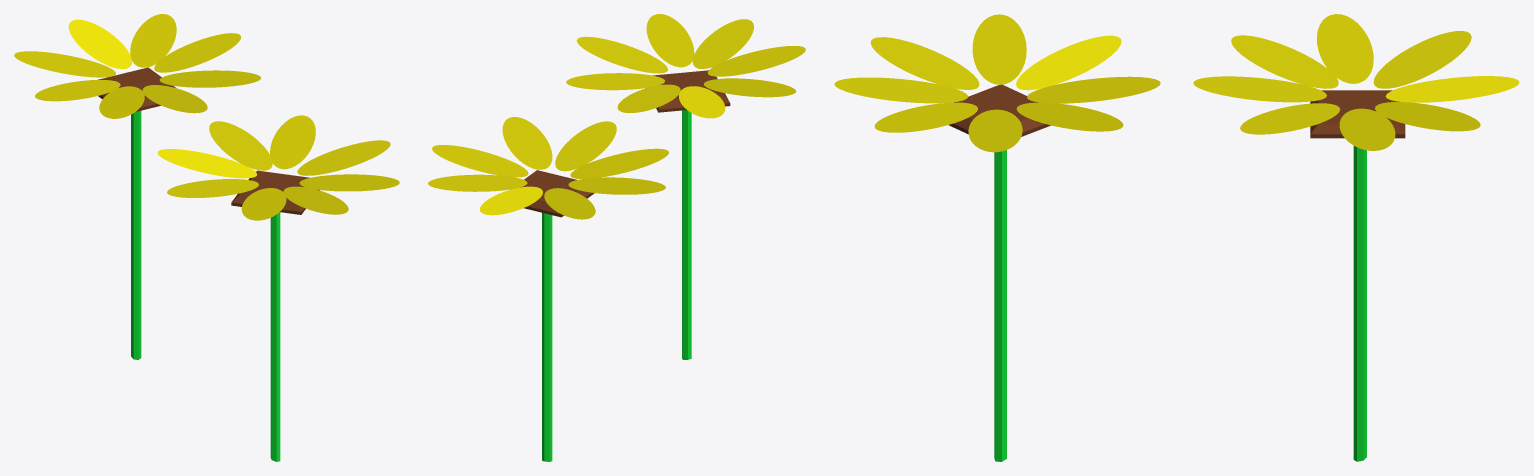
3 renders of one model, left to right at view 1: azimuth 30°, elevation 25°; view 2: azimuth 150°, elevation 25°; view 3: azimuth 270°, elevation 25°, orthographic. The views are drawn at different scales.
Visible parts, largest first — view 1: Cylinder, Cylinder.001, Circle.012, Circle.004, Circle.013, Circle.001, Circle.005, Circle.009, Circle.016, Circle.007, Circle.008, Circle.015 (+8 smaller); view 2: Cylinder, Cylinder.001, Circle.015, Circle.008, Circle.002, Circle.014, Circle.009, Circle.005, Circle.011, Circle.003, Circle.004, Circle.012 (+8 smaller); view 3: Cylinder, Cylinder.001, Circle.010, Circle.006, Circle.007, Circle.016, Circle.003, Circle.011, Circle.001, Circle.013, Circle.002, Circle.014 (+8 smaller).
Part boxes in pixels (left/top/right/bottom): Cylinder: left=131, top=111, right=141, bottom=359; Cylinder.001: left=270, top=212, right=280, bottom=461; Circle.012: left=270, top=115, right=315, bottom=169; Circle.004: left=130, top=14, right=176, bottom=67; Circle.013: left=209, top=121, right=272, bottom=170; Circle.001: left=68, top=19, right=131, bottom=69; Circle.005: left=154, top=33, right=240, bottom=72; Circle.009: left=297, top=140, right=390, bottom=175; Circle.016: left=157, top=149, right=256, bottom=178; Circle.007: left=14, top=51, right=115, bottom=77; Circle.008: left=159, top=70, right=260, bottom=87; Circle.015: left=299, top=174, right=399, bottom=191; Cylinder: left=542, top=213, right=552, bottom=461; Cylinder.001: left=682, top=110, right=691, bottom=359; Circle.015: left=646, top=14, right=694, bottom=67; Circle.008: left=502, top=117, right=552, bottom=169; Circle.002: left=555, top=121, right=616, bottom=171; Circle.014: left=692, top=19, right=753, bottom=69; Circle.009: left=576, top=36, right=667, bottom=73; Circle.005: left=432, top=145, right=528, bottom=177; Circle.011: left=707, top=46, right=805, bottom=76; Circle.003: left=570, top=148, right=668, bottom=178; Circle.004: left=428, top=174, right=527, bottom=191; Circle.012: left=566, top=73, right=664, bottom=90; Cylinder: left=1353, top=146, right=1366, bottom=461; Cylinder.001: left=994, top=150, right=1006, bottom=461; Circle.010: left=972, top=14, right=1026, bottom=84; Circle.006: left=1317, top=14, right=1373, bottom=83; Circle.007: left=1373, top=31, right=1471, bottom=88; Circle.016: left=1016, top=35, right=1121, bottom=90; Circle.003: left=1231, top=35, right=1338, bottom=88; Circle.011: left=870, top=37, right=979, bottom=89; Circle.001: left=1385, top=76, right=1519, bottom=102; Circle.013: left=1027, top=76, right=1160, bottom=103; Circle.002: left=1193, top=76, right=1326, bottom=102; Circle.014: left=834, top=77, right=967, bottom=103.
Bounding box in the file's own units: 1.73 × 2.19 × 3.61.
